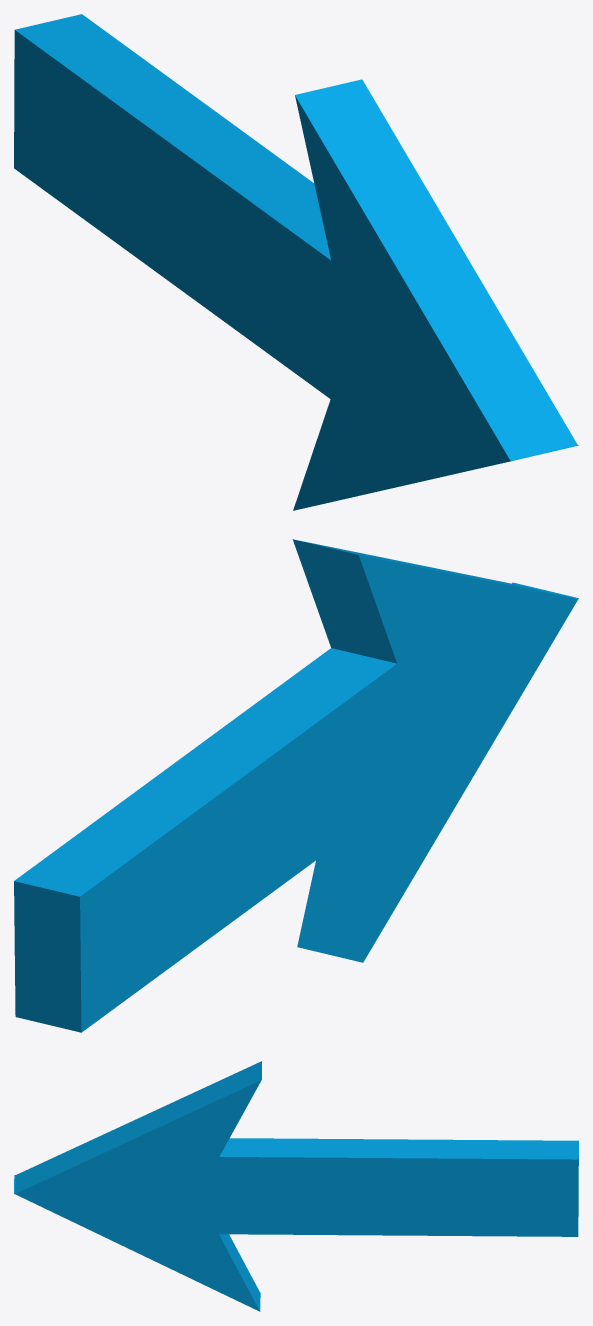
Rendered from Z-Axis.fbx.
3 renders of one model, top to bottom at view 1: azimuth 30°, elevation 25°; view 2: azimuth 150°, elevation 25°; view 3: azimuth 270°, elevation 25°, orthographic. The views are drawn at different scales.
Parts seen in each view (by area): view 1: polySurface7; view 2: polySurface7; view 3: polySurface7.
Boxes of the visible parts, box(x1,y1,x2,y2) form: polySurface7: box(14, 14, 578, 510); polySurface7: box(14, 539, 578, 1032); polySurface7: box(14, 1061, 578, 1311).
Size of the model in its own units: 0.3305 by 1.82 by 4.
